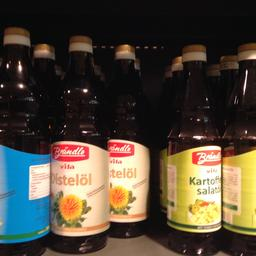oil: (49, 33, 106, 254), (166, 41, 220, 255), (1, 25, 48, 255), (104, 42, 150, 236)
